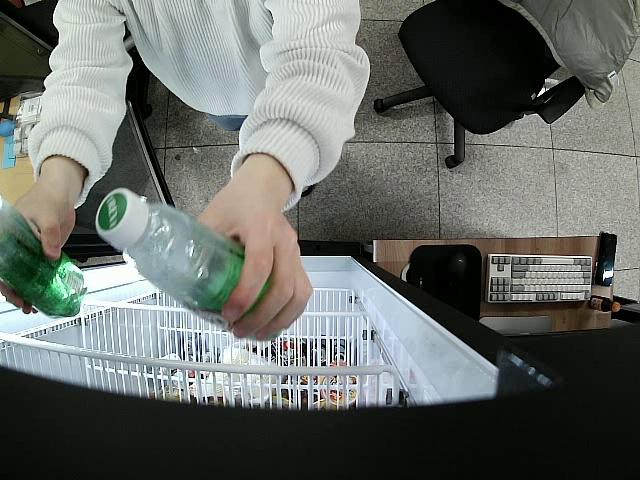00_hand: (193, 180, 313, 343), (0, 188, 78, 316)
18_trevi: (95, 188, 271, 334), (0, 197, 84, 319)
